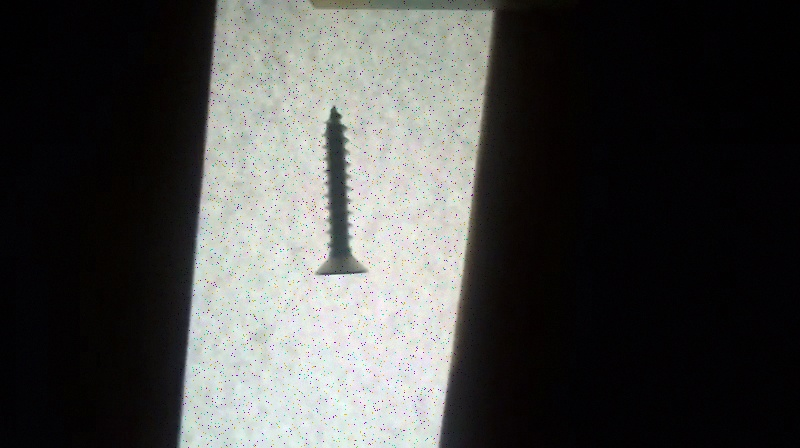S001: (314, 102, 368, 279)
